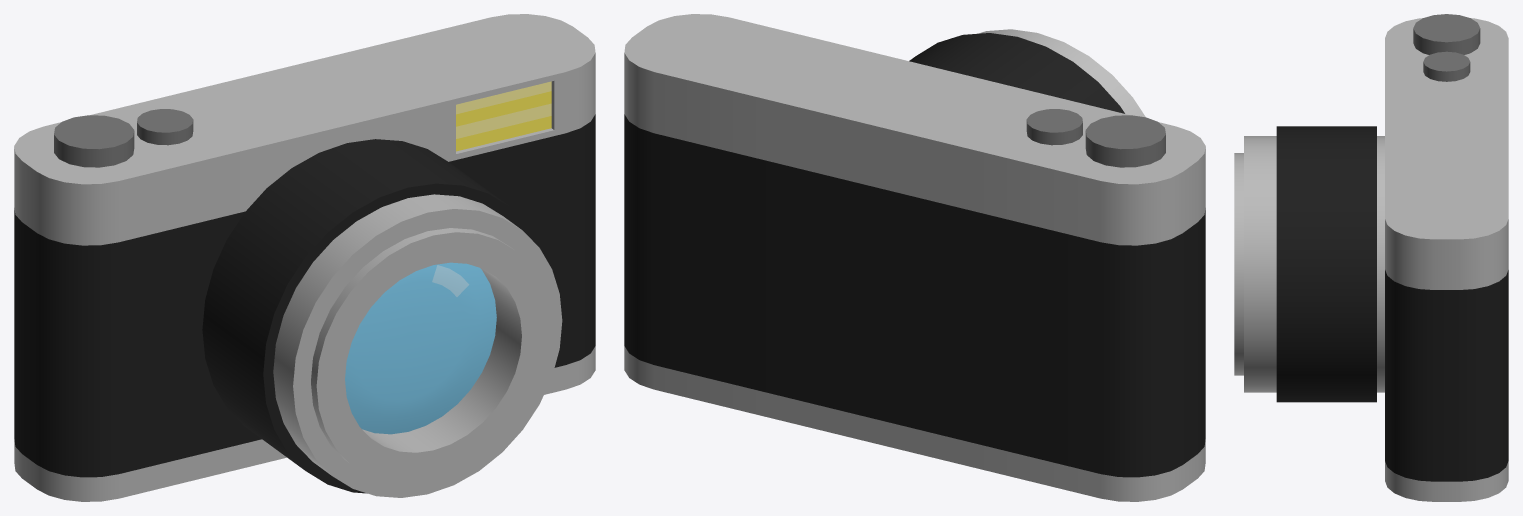
File: camera.glb
The picture shows the model from 3 angles, left to right: view 1: azimuth 30°, elevation 25°; view 2: azimuth 150°, elevation 25°; view 3: azimuth 270°, elevation 25°; orthographic projection. The views are drawn at different scales.
Parts seen in each view (by area): view 1: Cube.940; view 2: Cube.940; view 3: Cube.940.
Part boxes in pixels (<box>): Cube.940: <box>14,14,595,501</box>; Cube.940: <box>624,14,1205,501</box>; Cube.940: <box>1234,14,1508,501</box>.
Bounding box in the file's own units: 2.16 × 1.26 × 1.13.
Materials: 1 (1 with a texture image).
